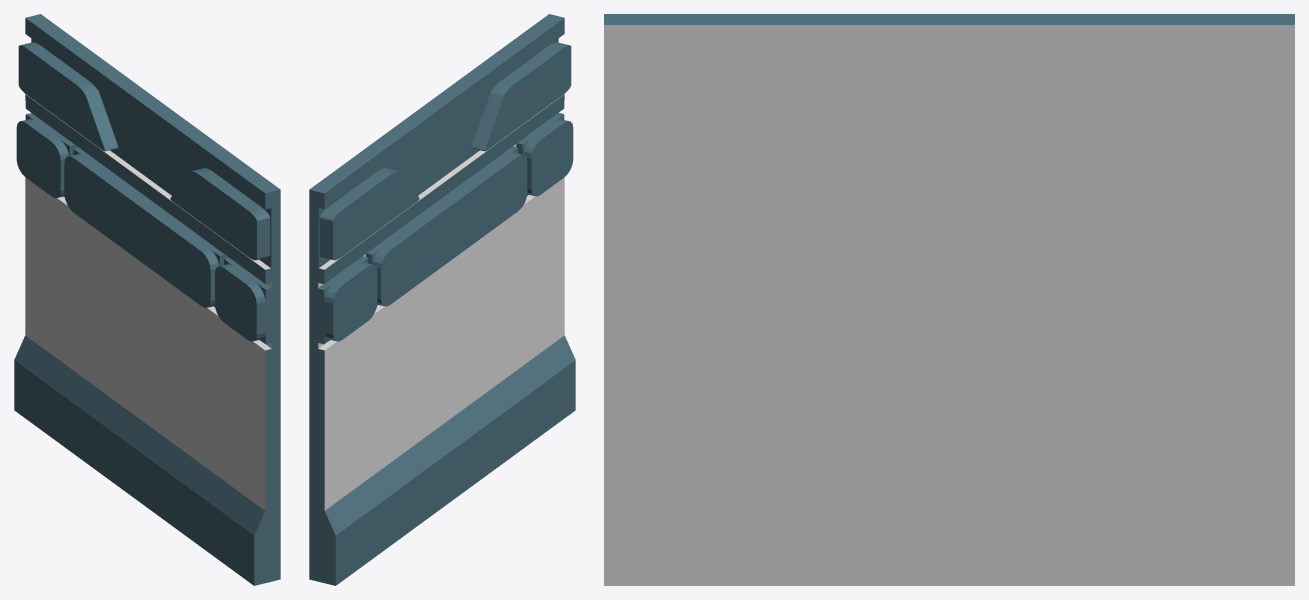
The model's file is Alien wall.fbx.
3 renders of one model, left to right at view 1: azimuth 30°, elevation 25°; view 2: azimuth 150°, elevation 25°; view 3: azimuth 270°, elevation 25°, orthographic. The views are drawn at different scales.
Parts seen in each view (by area): view 1: Cube; view 2: Cube; view 3: Cube.
Boxes of the visible parts, x1=… form: Cube: x1=14, y1=14, x2=280, y2=585; Cube: x1=309, y1=14, x2=575, y2=585; Cube: x1=604, y1=14, x2=1294, y2=585.
Bounding box in the file's own units: 77.06 × 1080 × 1205.
